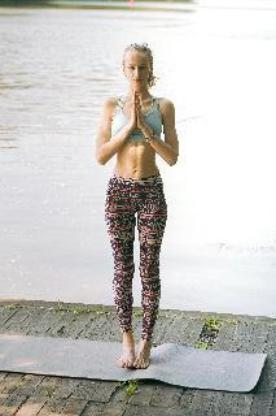person: (92, 35, 183, 378)
